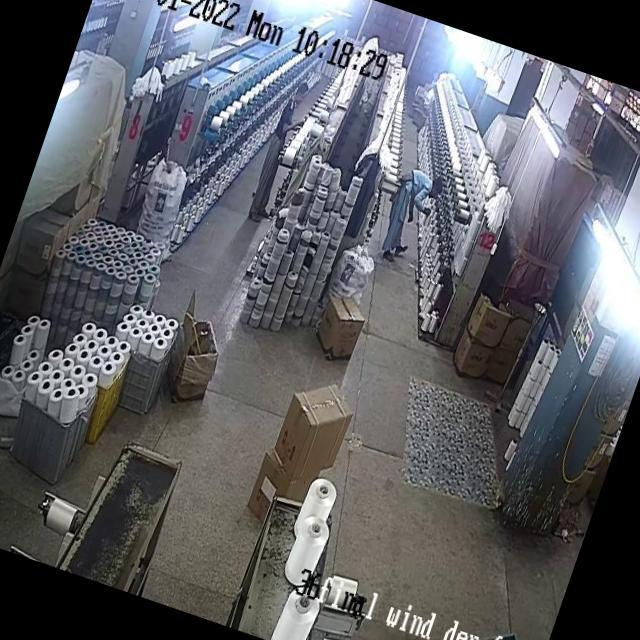person: (249, 80, 312, 213), (374, 162, 440, 260)
